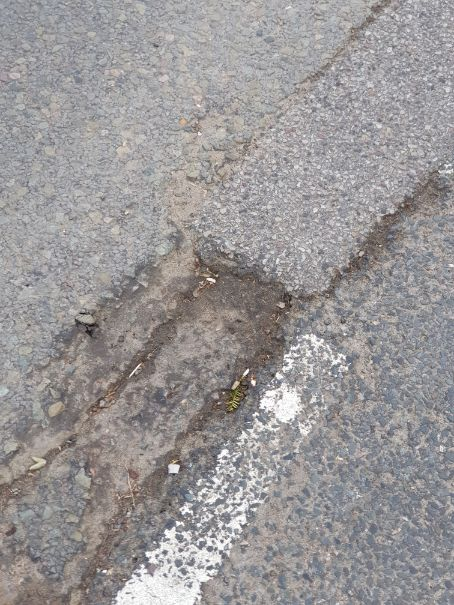pothole: (18, 218, 363, 512)
